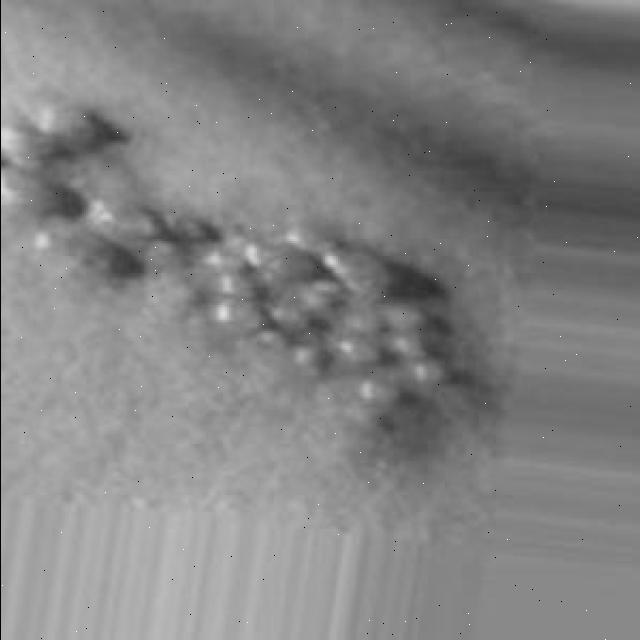Shingles: (0, 97, 455, 410)
